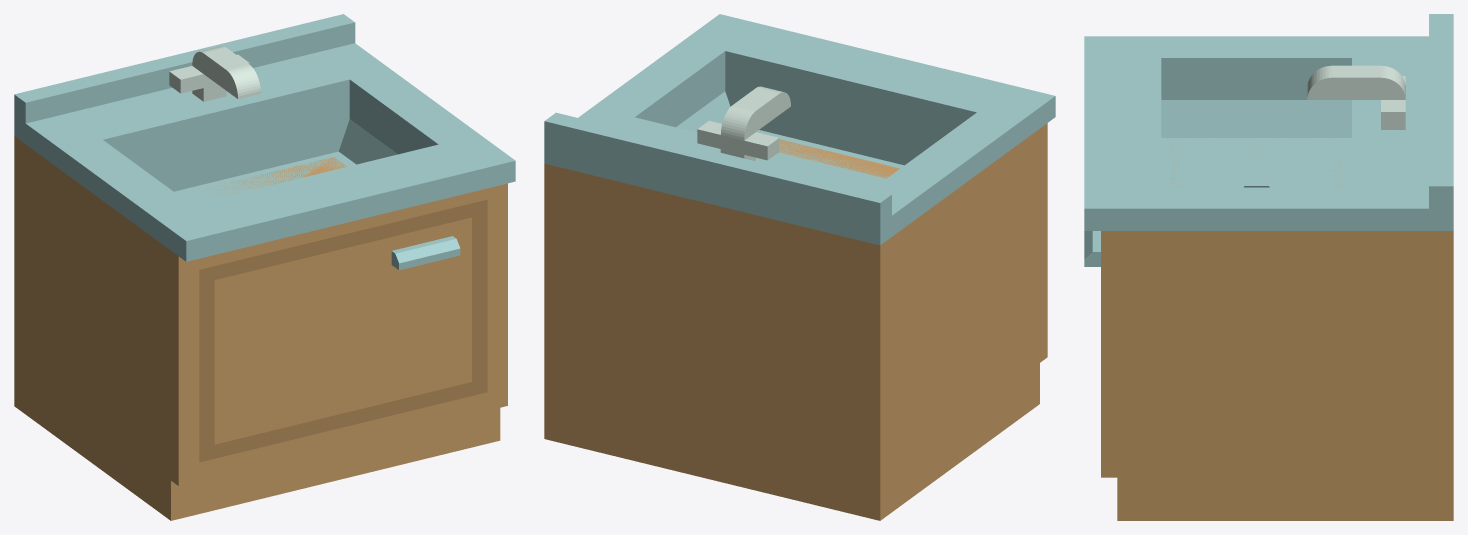
Rendered from f_sink.glb.
3 views of the same model, side by side, from view 1: azimuth 30°, elevation 25°; view 2: azimuth 150°, elevation 25°; view 3: azimuth 270°, elevation 25° (orthographic). The views are drawn at different scales.
Parts seen in each view (by area): view 1: body, surface_1; view 2: body, surface_1; view 3: body.
Part boxes in pixels (x1,y1,x2,y2): body: [14, 14, 515, 520]; surface_1: [199, 157, 346, 194]; body: [544, 14, 1055, 520]; surface_1: [779, 139, 899, 178]; body: [1084, 14, 1453, 520].
Size of the model in its own units: 0.995 by 0.98 by 0.9.
